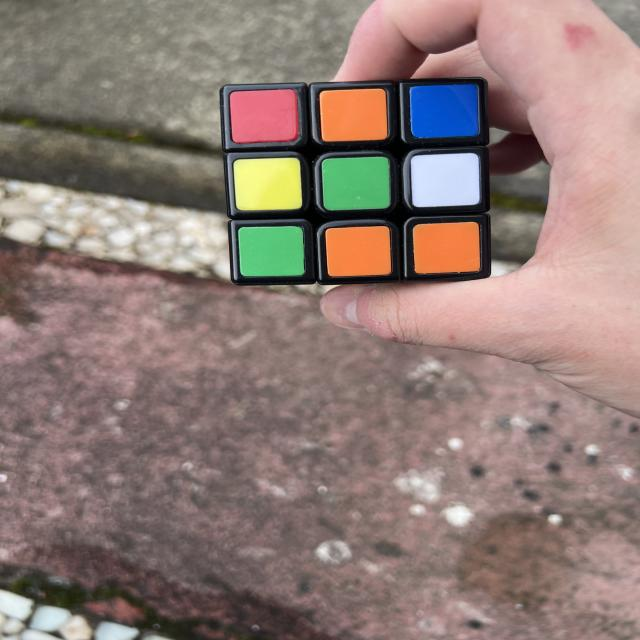blue: (409, 84, 479, 139)
center: (321, 156, 391, 211)
green: (321, 156, 391, 211), (238, 226, 305, 278)
orange: (319, 88, 388, 142), (325, 225, 392, 278), (413, 222, 481, 274)
red: (229, 89, 300, 144)
white: (409, 152, 481, 208)
yellow: (233, 156, 302, 213)
